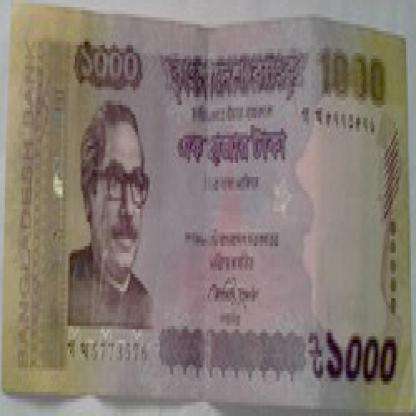One Thousand taka: (306, 322, 401, 392), (316, 38, 391, 111), (70, 38, 145, 94)
